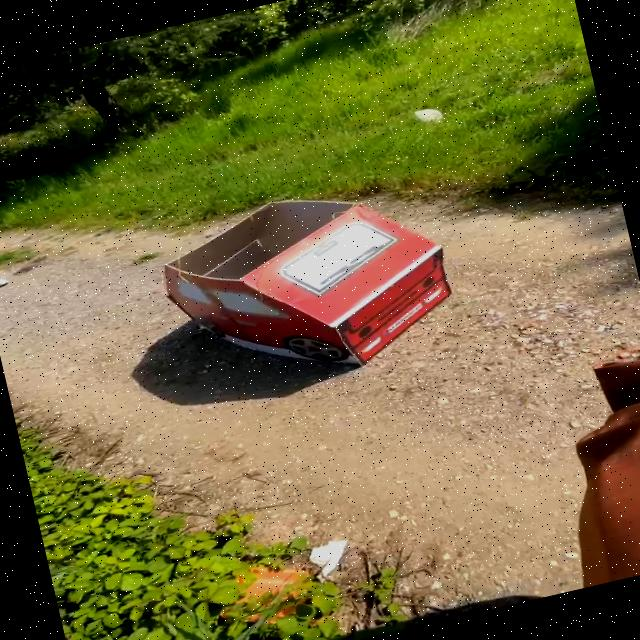red_car: (100, 129, 575, 442)
